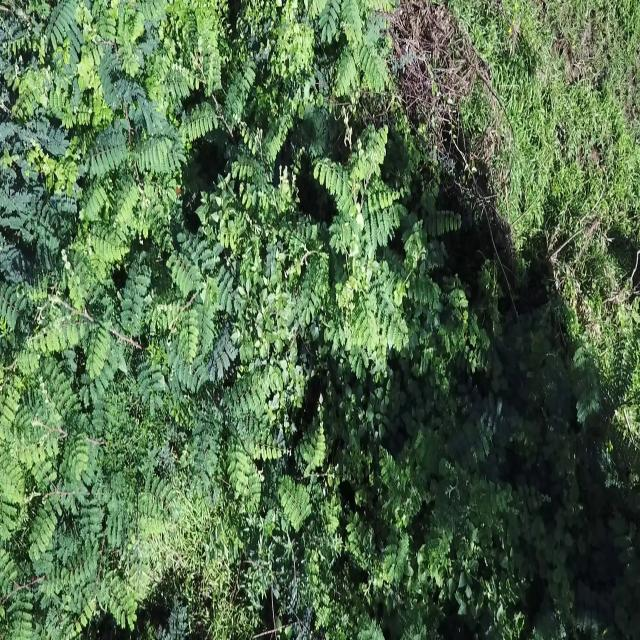Mysore-Thorn-Weed: (314, 111, 412, 385), (0, 468, 144, 637), (0, 237, 154, 382), (74, 0, 187, 185), (277, 406, 348, 640), (0, 358, 104, 512), (0, 103, 82, 290), (162, 218, 247, 394), (194, 364, 292, 516), (426, 404, 500, 567), (180, 35, 270, 157), (342, 448, 416, 590), (402, 161, 464, 310), (310, 0, 399, 100), (318, 0, 392, 100), (126, 416, 186, 533), (38, 0, 89, 101)
